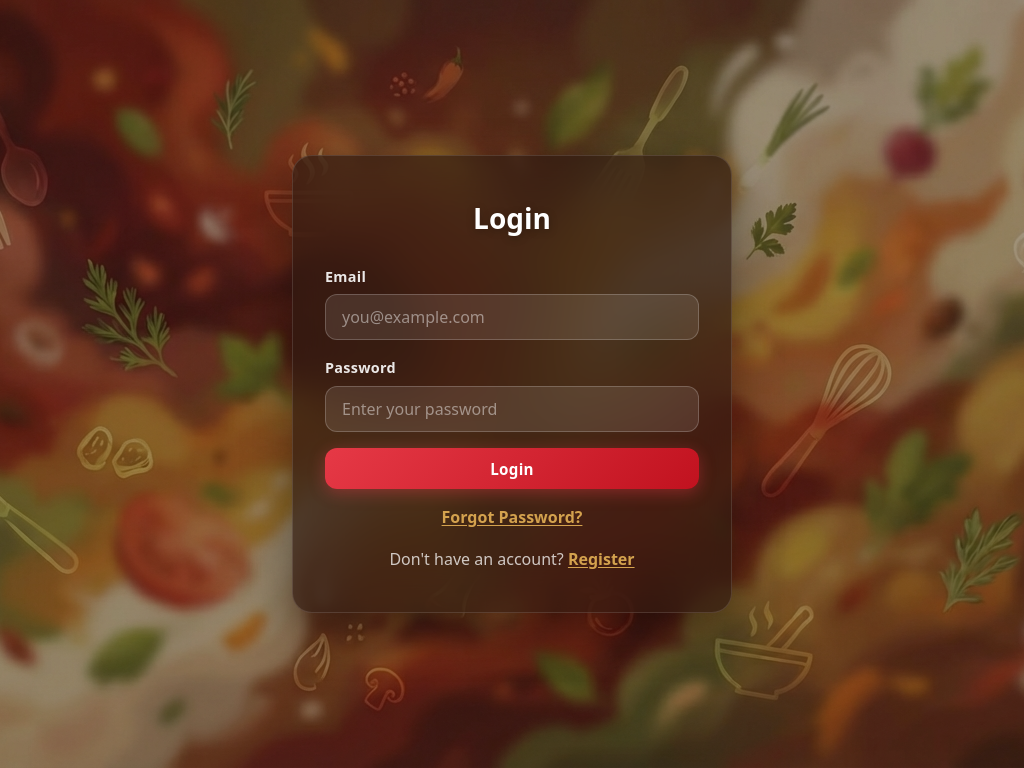
Login › shows email validation error on blur with empty email
Click the field with placeholder "you@example.com" at (512, 317), box x1=325 y1=294 x2=699 y2=340
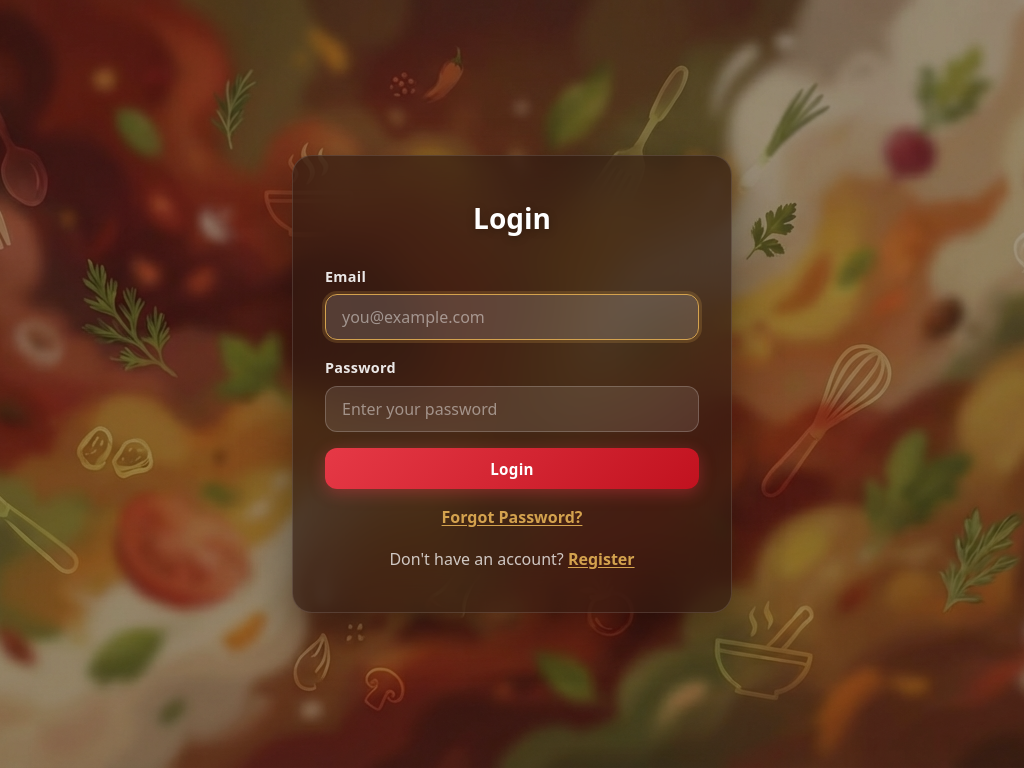
Press Tab
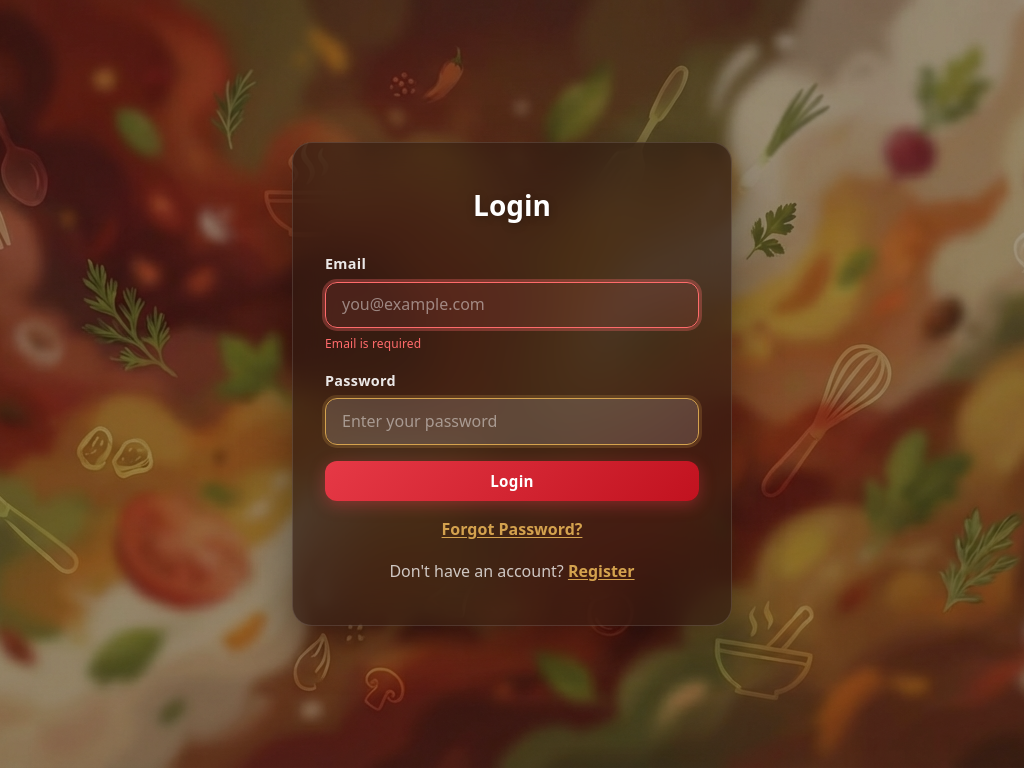
Check: the text "Email is required" is shown, box x1=325 y1=335 x2=421 y2=352
